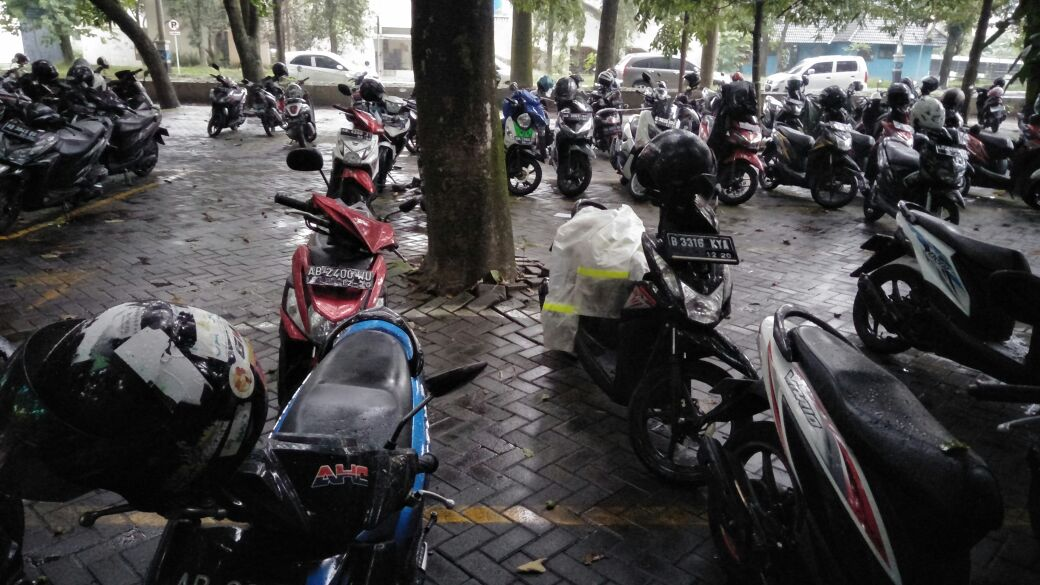plate: (667, 231, 738, 262), (307, 264, 376, 292)
